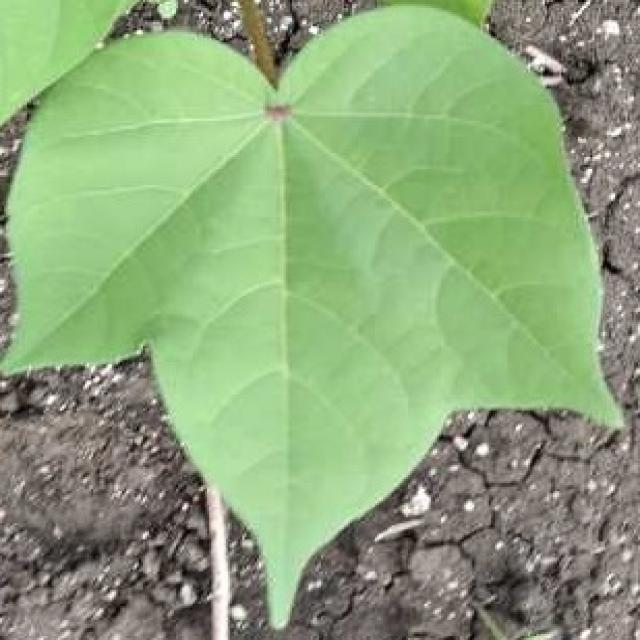Healthy Leaf: (77, 30, 601, 345)
